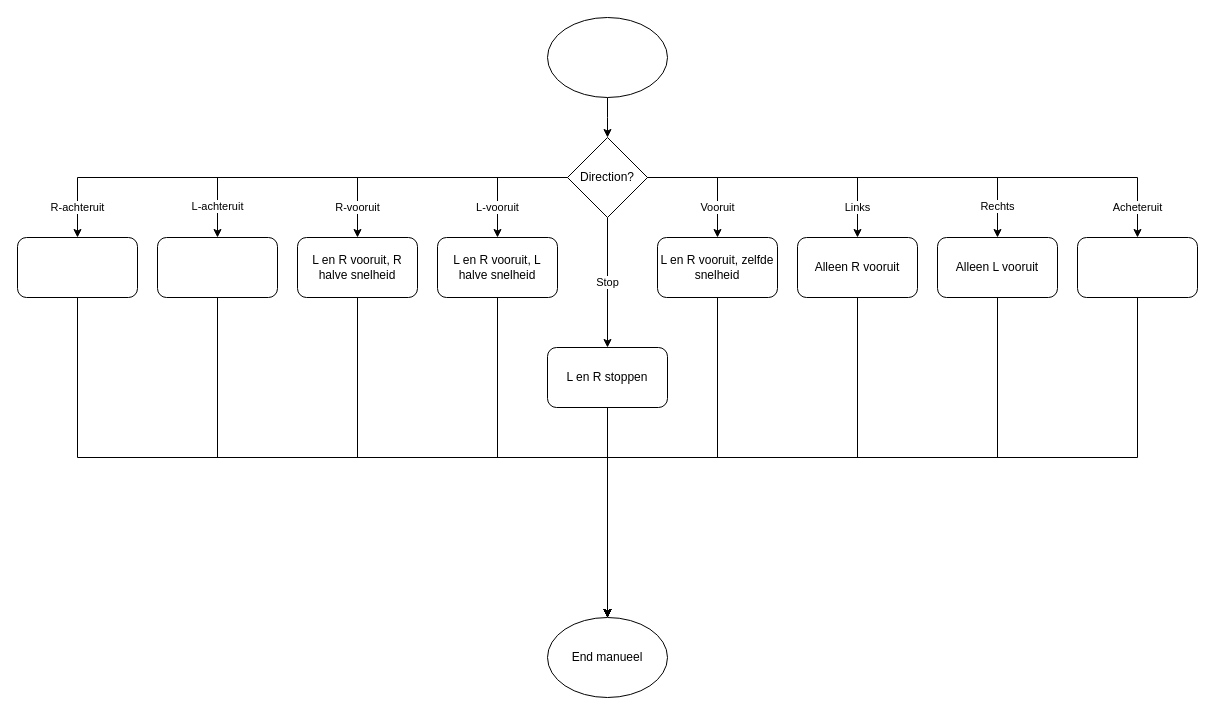
This 1215x715 diagram has some shape labels left out. Here are the shapes that lost their labels. From the top down, the box of each, then its label:
(546, 16, 668, 98): Start manueel
(16, 236, 138, 298): L en R achteruit, R halve snelheid
(156, 236, 278, 298): L en R achteruit, L halve snelheid
(1076, 236, 1198, 298): L en R achteruit, zelfde snelheid
